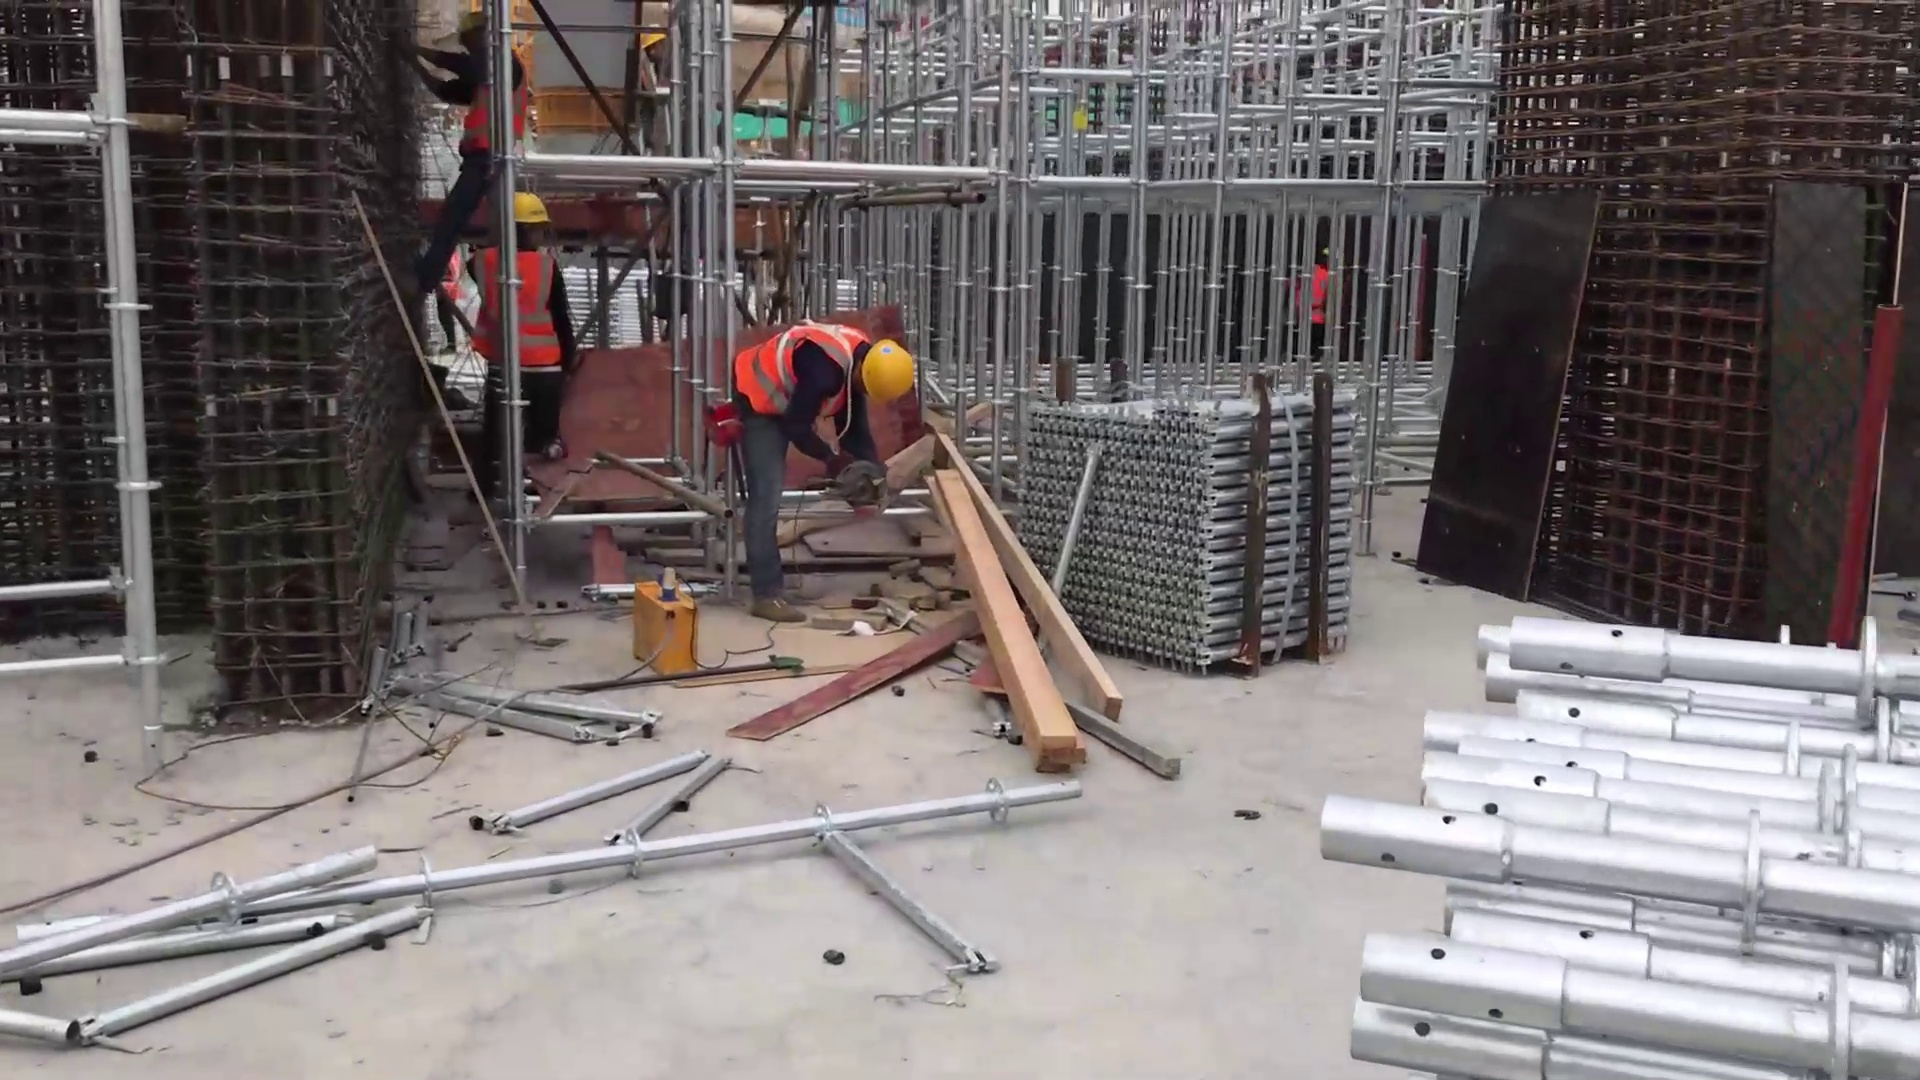cutter: (832, 449, 907, 512)
ebox: (619, 564, 714, 708)
helmet: (864, 336, 916, 410), (514, 190, 551, 229)
person: (733, 312, 923, 624), (469, 187, 589, 482), (436, 1, 543, 323), (640, 26, 677, 119)
scaffold: (1314, 608, 1920, 1079), (1008, 389, 1371, 672)
vest: (474, 244, 563, 375), (747, 316, 858, 420)
wood: (907, 424, 1147, 790)
